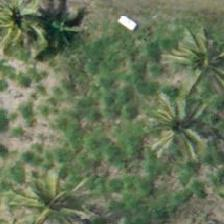Kelapa_Sawit: (138, 78, 224, 168), (12, 156, 102, 224), (164, 18, 224, 108), (0, 0, 62, 66)
